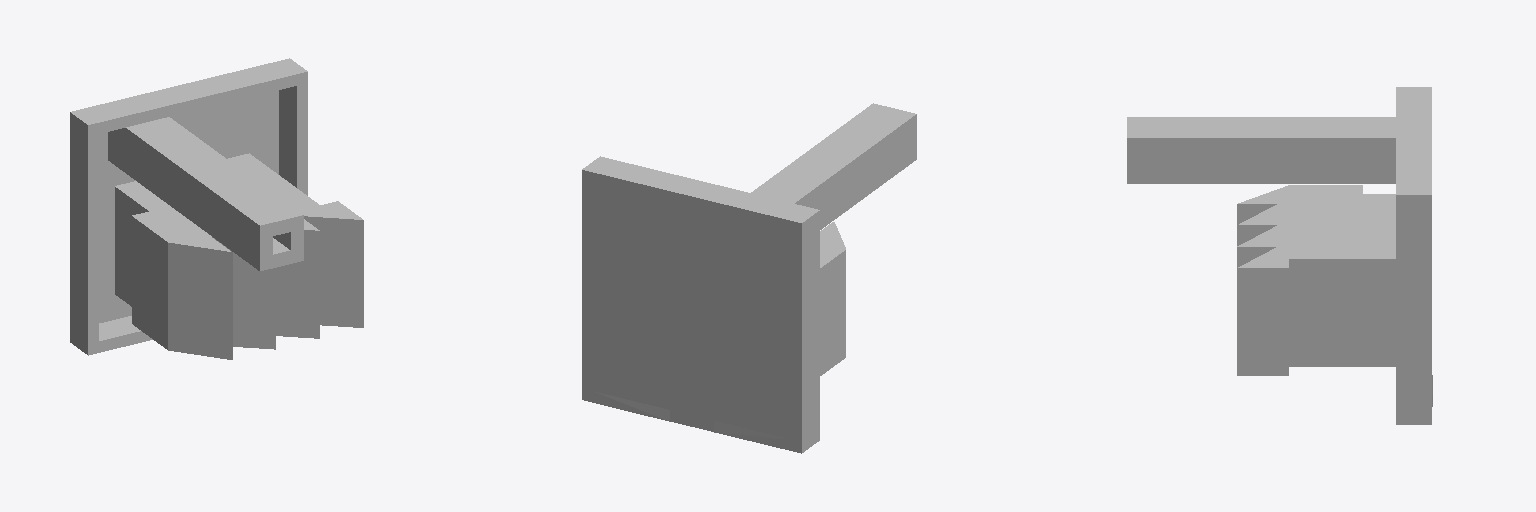
Rendered from factory01.obj.
The picture shows the model from 3 angles: view 1: azimuth 30°, elevation 25°; view 2: azimuth 150°, elevation 25°; view 3: azimuth 270°, elevation 25°; orthographic projection.
Bounding box in the file's own units: 1 × 1 × 1.2.